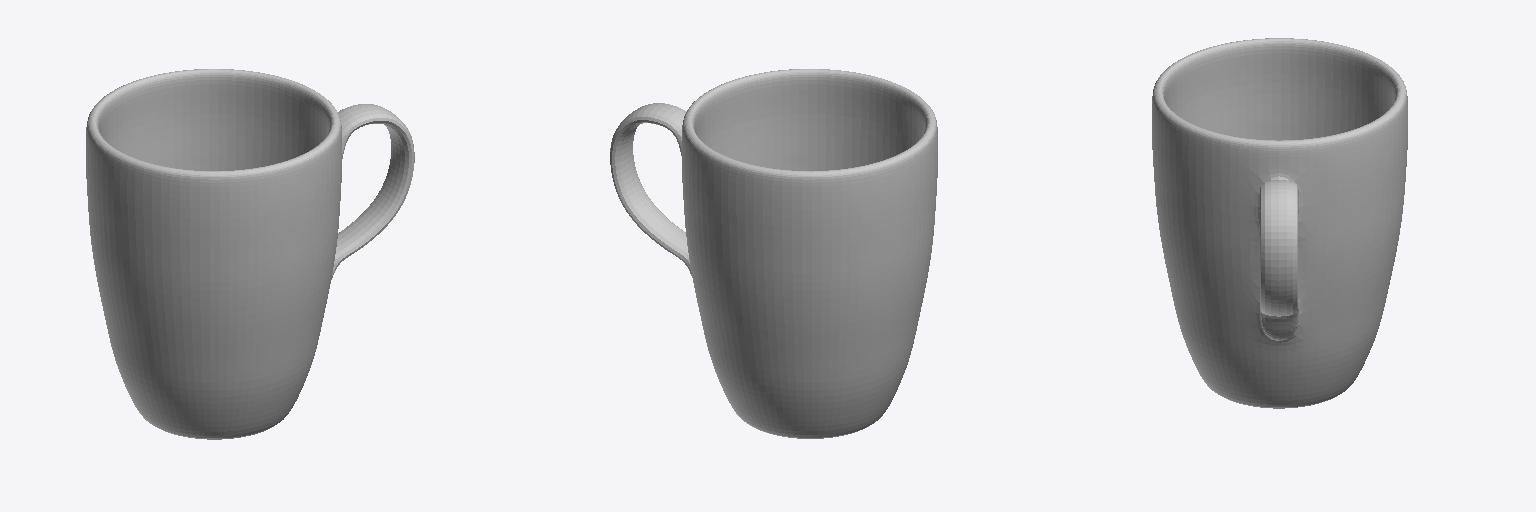
The model's file is Caneca.obj.
The picture shows the model from 3 angles: view 1: azimuth 30°, elevation 25°; view 2: azimuth 150°, elevation 25°; view 3: azimuth 270°, elevation 25°; orthographic projection.
Parts seen in each view (by area): view 1: coffee_cup:cup; view 2: coffee_cup:cup; view 3: coffee_cup:cup.
Boxes of the visible parts, x1=… form: coffee_cup:cup: x1=86, y1=69, x2=414, y2=439; coffee_cup:cup: x1=610, y1=69, x2=937, y2=438; coffee_cup:cup: x1=1152, y1=38, x2=1407, y2=408.
Size of the model in its own units: 0.2048 by 0.1864 by 0.1487.